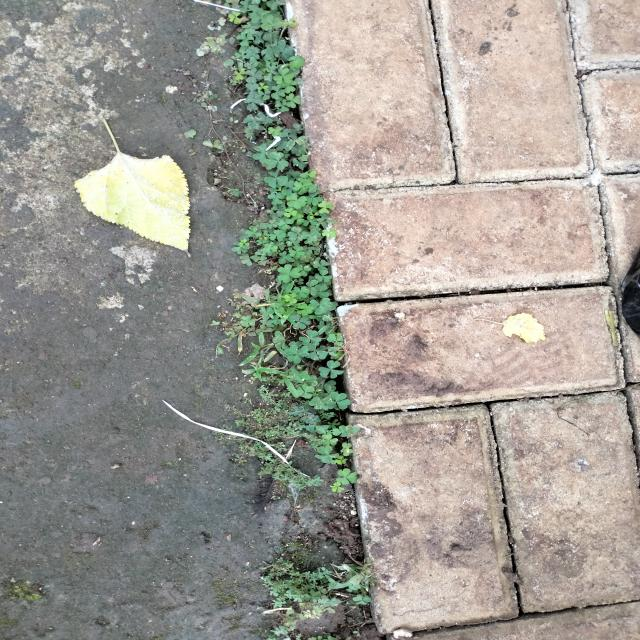buah daun: (267, 599, 343, 638), (288, 404, 321, 427)
clover: (307, 443, 340, 466), (316, 359, 347, 380), (282, 343, 312, 364), (275, 262, 302, 285), (325, 389, 353, 411), (262, 168, 289, 190), (306, 296, 335, 316), (252, 143, 277, 165), (329, 423, 363, 439), (263, 151, 290, 171), (272, 66, 298, 86), (272, 40, 298, 60), (246, 7, 274, 25), (337, 442, 368, 458), (307, 392, 333, 411), (286, 364, 312, 383), (335, 467, 360, 486), (284, 192, 310, 210), (298, 328, 322, 347), (242, 66, 266, 85), (243, 93, 265, 112), (289, 313, 312, 331), (316, 432, 341, 448), (234, 31, 256, 49), (285, 225, 308, 242), (326, 331, 348, 348), (260, 14, 282, 31), (242, 113, 264, 130), (293, 383, 316, 399), (304, 188, 324, 206), (310, 283, 331, 300), (286, 244, 308, 260), (287, 54, 309, 70), (283, 93, 305, 109), (292, 179, 314, 195), (311, 270, 335, 284), (299, 228, 321, 243), (311, 257, 331, 273), (242, 46, 262, 62), (230, 240, 251, 255), (292, 285, 310, 302), (318, 199, 337, 215), (279, 78, 298, 94), (282, 15, 302, 30), (239, 252, 259, 267), (237, 314, 258, 328), (262, 240, 280, 256), (268, 228, 287, 243), (291, 155, 310, 170), (270, 84, 287, 100), (258, 305, 276, 320), (226, 10, 244, 25), (257, 110, 275, 125), (242, 21, 261, 35), (267, 192, 286, 206), (351, 594, 373, 606), (320, 226, 338, 240), (297, 170, 318, 182), (296, 302, 314, 316), (332, 454, 352, 466), (264, 32, 279, 48), (244, 325, 264, 337), (245, 225, 262, 239), (266, 125, 284, 138), (254, 88, 272, 101), (276, 251, 294, 264), (275, 98, 290, 113), (282, 292, 298, 306), (277, 218, 295, 230), (290, 212, 306, 225), (287, 122, 304, 134), (313, 217, 330, 229), (256, 322, 276, 332), (328, 482, 345, 492), (265, 56, 279, 68), (268, 314, 282, 326), (255, 81, 270, 92), (283, 207, 298, 218), (233, 70, 247, 81), (266, 219, 279, 229), (293, 276, 305, 286), (238, 239, 250, 248), (228, 77, 238, 86)
lumut besar: (233, 443, 325, 492), (258, 555, 338, 611), (218, 384, 288, 442)
rambat atas: (238, 332, 279, 379)
